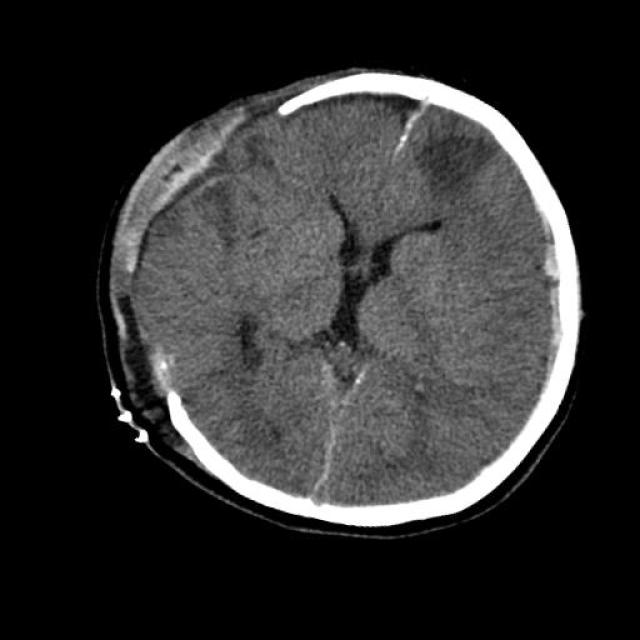Subdural: (490, 188, 620, 402)
